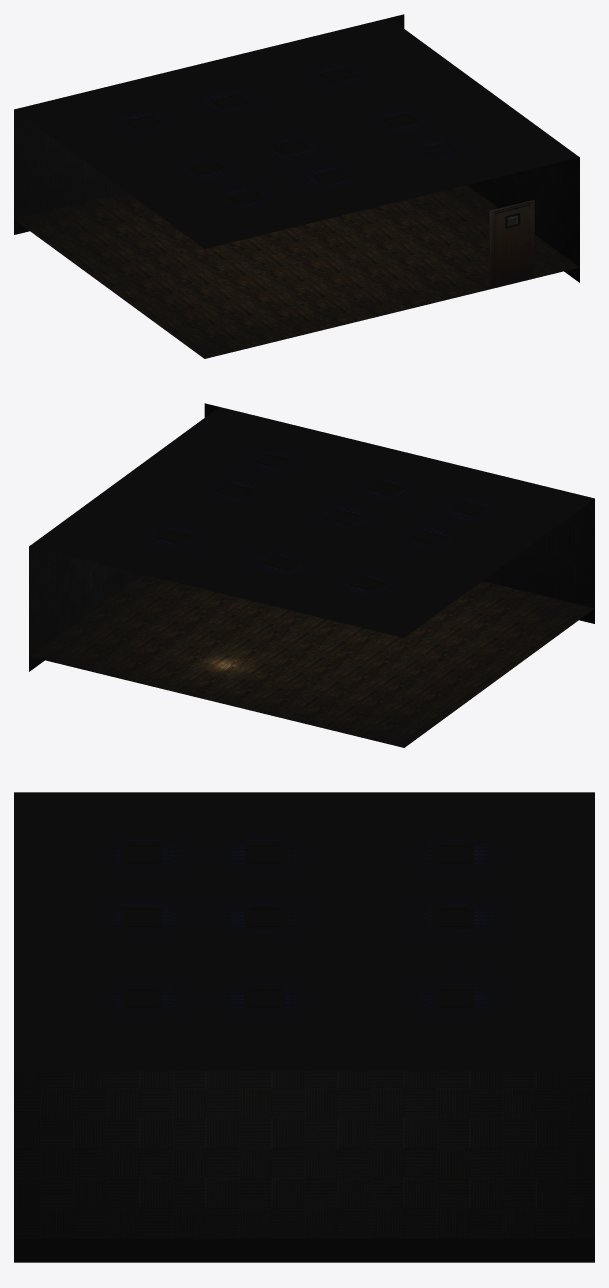
File: MusicRoom_lightmap.obj
3 renders of one model, top to bottom at view 1: azimuth 30°, elevation 25°; view 2: azimuth 150°, elevation 25°; view 3: azimuth 270°, elevation 25°, orthographic. The views are drawn at different scales.
Visible parts, largest first — view 1: Cube_CubeMesh; view 2: Cube_CubeMesh; view 3: Cube_CubeMesh.
Part boxes in pixels (box(x1,y1,x2,y2)): Cube_CubeMesh: box(14, 14, 579, 358); Cube_CubeMesh: box(29, 403, 594, 747); Cube_CubeMesh: box(14, 792, 594, 1262).
Size of the model in its own units: 26 by 8.02 by 22.
Materials: 5 (5 with a texture image).
